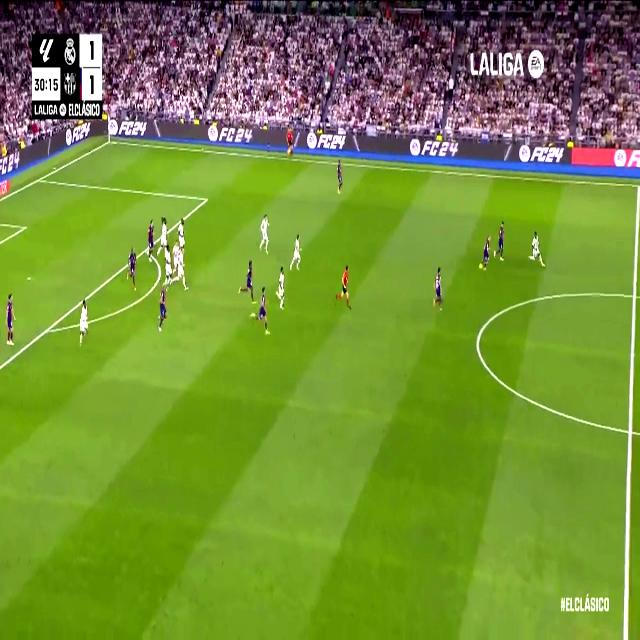bigarea_top_inner: (202, 192, 210, 206)
bigarea_top_outter: (36, 172, 42, 184)
bottom_arc_area_intersection: (43, 320, 53, 338)
corner: (105, 135, 113, 146)
halfcircle_bottom: (625, 415, 637, 447)
halfcircle_top: (628, 281, 640, 309)
midline_top_intersection: (635, 180, 640, 197)
smallarea_top_inner: (22, 222, 28, 231)
top_arc_area_intersection: (141, 242, 149, 256)
